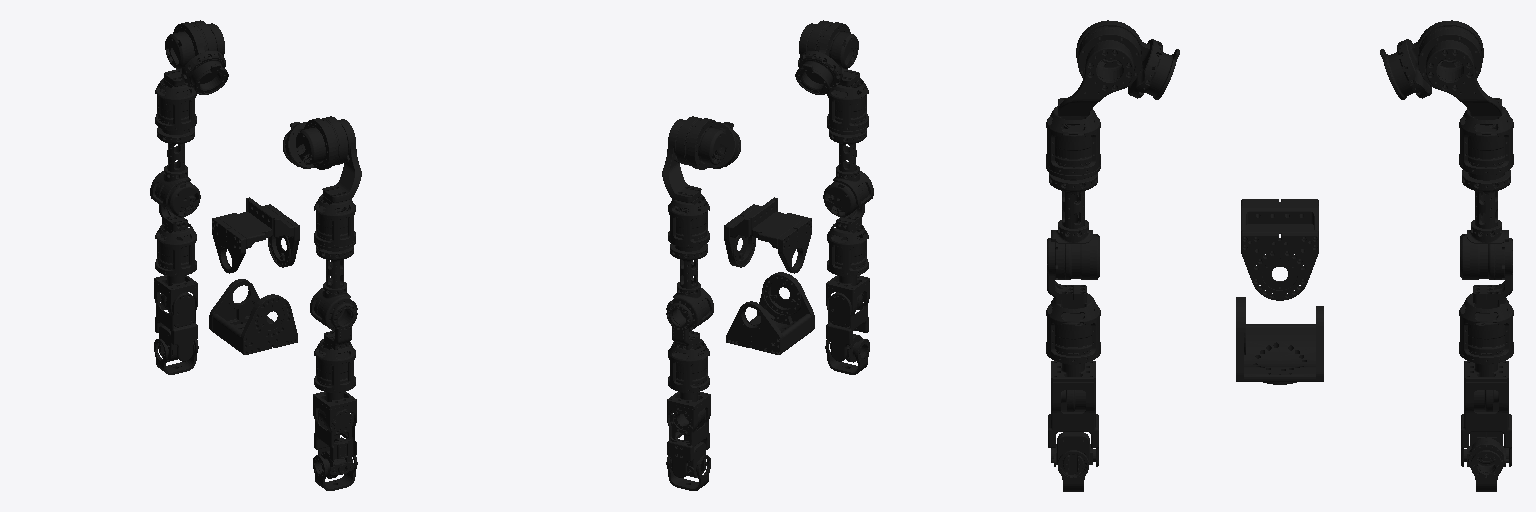
robot.urdf — sonnyV4_new_new_new:
<?xml version="1.0" encoding="utf-8"?>
<robot
  name="sonnyV4_new_new_new">


  <link
    name="waistYaw">
    <inertial>
      <origin
        xyz="-0.010388 -0.001695 0.022471"
        rpy="0 0 0" />
      <mass
        value="0.378860" />
      <inertia
        ixx="0.000559"
        ixy="-0.000010"
        ixz="-0.000002"
        iyy="0.000414"
        iyz="-0.000027"
        izz="0.000713" />
    </inertial>
    <visual>
      <origin
        xyz="0 0 0"
        rpy="0 0 0" />
      <geometry>
        <mesh
          filename="../meshes/y3.STL" />
      </geometry>
      <material
        name="">
        <color
          rgba="0.15 0.15 0.15 1" />
        <!-- <color
          rgba="1 1 1 1" /> -->
      </material>
    </visual>

      <collision>
      <origin
        xyz="0.0 0.0 0.0"
        rpy="0 0 0" />
      <geometry>
        <!-- <cylinder length="0.16" radius="0.07"/> -->
        <mesh
          filename="../meshes/y3.STL" />
      </geometry>
      <!-- <origin
        xyz="0 0 0"
        rpy="0 0 0" />
      <geometry>
        <mesh
          filename="../meshes/you3.STL" />
      </geometry> -->
    </collision>

  </link>

  <link
    name="waistPitch">
    <inertial>
      <origin
        xyz="0.001679 0.037972 0.042537"
        rpy="0 0 0" />
      <mass
        value="2.453693" />
      <inertia
        ixx="0.006530"
        ixy="0.000007"
        ixz="0.000170"
        iyy="0.006528"
        iyz="0.000177"
        izz="0.002075" />
    </inertial>
    <visual>
      <origin
        xyz="0 0 0"
        rpy="0 0 0" />
      <geometry>
        <mesh
          filename="../meshes/y2.STL" />
      </geometry>
      <material
        name="">
        <color
          rgba="0.15 0.15 0.15 1" />
        <!-- <color
          rgba="0.686274509803922 0.686274509803922 0.686274509803922 1" /> -->
      </material>
    </visual>
    <collision>
      <origin
        xyz="0 0 0"
        rpy="0 0 0" />
      <geometry>
        <mesh
          filename="../meshes/y2.STL" />
      </geometry>
    </collision>
  </link>
  <joint
    name="waistPitch"
    type="fixed">
    <origin
      xyz="0 -0.03965 0.055"
      rpy="0 0 0" />
    <parent
      link="waistYaw" />
    <child
      link="waistPitch" />
    <axis
      xyz="0 1 0" />
    <limit effort="82.5" lower="-1.57" upper="1.57" velocity="8.0"/>
  </joint>
  <link
    name="waistRoll">
    <inertial>
      <origin
        xyz="-0.035884 0.0 0.032200"
        rpy="0 0 0" />
      <mass
        value="0.317200" />
      <inertia
        ixx="0.000344"
        ixy="0.0"
        ixz="-0.000015"
        iyy="0.000517"
        iyz="0.0"
        izz="0.000605" />
    </inertial>
    <visual>
      <origin
        xyz="0 0 0"
        rpy="0 0 0" />
      <geometry>
        <mesh
          filename="../meshes/y1.STL" />
      </geometry>
      <material
        name="">
        <color
          rgba="0.15 0.15 0.15 1" />
        <!-- <color
          rgba="0.752941176470588 0.752941176470588 0.752941176470588 1" /> -->
      </material>
    </visual>
    <collision>
      <origin
        xyz="0 0 0"
        rpy="0 0 0" />
      <geometry>
        <mesh
          filename="../meshes/y1.STL" />
      </geometry>
    </collision>
  </link>
  <joint
    name="waistRoll"
    type="fixed">
    <origin
      xyz="0.03965 0.03965 0.085"
      rpy="0 0 0" />
    <parent
      link="waistPitch" />
    <child
      link="waistRoll" />
    <axis
      xyz="1 0 0" />
    <limit effort="82.5" lower="-1.57" upper="1.57" velocity="8.0"/>
  </joint>
  <link
    name="torso">
    <inertial>
      <origin
        xyz="-0.012990 0.012559 -0.016876"
        rpy="0 0 0" />
      <mass
        value="5.293464" />
      <inertia
        ixx="0.031058"
        ixy="0.000699"
        ixz="0.002136"
        iyy="0.023216"
        iyz="0.001421"
        izz="0.016461" />
    </inertial>
    <visual>
      <origin
        xyz="0 0 0"
        rpy="0 0 0" />
      <geometry>
        <mesh
          filename="../meshes/b1.STL" />
      </geometry>
      <material
        name="">
        <color
          rgba="0.15 0.15 0.15 1" />
        <!-- <color
          rgba="0.752941176470588 0.752941176470588 0.752941176470588 1" /> -->
      </material>
    </visual>
    <collision>
      <origin
        xyz="0 0 0.0"
        rpy="0 0 0" />
      <geometry>
        <!-- <sphere radius="0.1"/> -->
        <mesh
          filename="../meshes/b1.STL" />
      </geometry>
    </collision>

  </link>
  <joint
    name="torso"
    type="fixed">
    <origin
      xyz="-0.03965 0 0.19760320787506"
      rpy="0 0 0" />
    <parent
      link="waistRoll" />
    <child
      link="torso" />
    <axis
      xyz="1 0 0" />
  </joint>
  <link
    name="shoulderPitchLeft">
    <inertial>
      <origin
        xyz="0.00543959 0.05818666 -0.00001075"
        rpy="0 0 0" />
      <mass
        value="0.77170250" />
      <inertia
        ixx="0.00068500"
        ixy="0.00004059"
        ixz="0.00000064"
        iyy="0.00041017"
        iyz="-0.00000177"
        izz="0.00064509" />
    </inertial>
    <visual>
      <origin
        xyz="0 0 0"
        rpy="0 0 0" />
      <geometry>
        <mesh
          filename="../meshes/zuo1.STL" />
      </geometry>
      <material
        name="">
        <color
          rgba="0.15 0.15 0.15 1" />
        <!-- <color
          rgba="0.752941176470588 0.752941176470588 0.752941176470588 1" /> -->
      </material>
    </visual>
    <collision>
      <origin
        xyz="0 0 0"
        rpy="0 0 0" />
      <geometry>
        <mesh
          filename="../meshes/zuo1.STL" />
      </geometry>
    </collision>
  </link>
  <joint
    name="shoulderPitch_Left"
    type="revolute">
    <origin
      xyz="0 0.126623540681031 0.0196556705521279"
      rpy="0.436332320793253 0 0" />
    <parent
      link="torso" />
    <child
      link="shoulderPitchLeft" />
    <axis
      xyz="0 1 0" />
    <limit effort="18.0" lower="-2.618" upper="1.047" velocity="8.0"/>
  </joint>
  <link
    name="shoulderRollLeft">
    <inertial>
      <origin
        xyz="-0.02621271 0.09487288 0.03613994"
        rpy="0 0 0" />
      <mass
        value="0.50766554" />
      <inertia
        ixx="0.00092986"
        ixy="-0.00021876"
        ixz="-0.00006163"
        iyy="0.00032675"
        iyz="0.00017328"
        izz="0.00092647" />
    </inertial>
    <visual>
      <origin
        xyz="0 0 0"
        rpy="0 0 0" />
      <geometry>
        <mesh
          filename="../meshes/zuo2.STL" />
      </geometry>
      <material
        name="">
        <color
          rgba="0.15 0.15 0.15 1" />
        <!-- <color
          rgba="0.752941176470588 0.752941176470588 0.752941176470588 1" /> -->
      </material>
    </visual>
    <!-- <visual>
      <origin
        xyz="-0.025 0 0"
        rpy="0 0 0" />
      <geometry>
        <sphere radius="0.04"/>
      </geometry>
      <material
        name="">
        <color
          rgba="0.236 0.225 0.225 1" />
      </material>
    </visual> -->
    <collision>

      <origin
        xyz="0 0 0"
        rpy="0 0 0" />
      <geometry>
        <mesh
          filename="../meshes/zuo2.STL" />
      </geometry>
    </collision>
  </link>
  <joint
    name="shoulderRoll_Left"
    type="revolute">
    <origin
      xyz="0.031999983030471 0.0670000081048653 0"
      rpy="-2.00712863979338 0 0" />
    <parent
      link="shoulderPitchLeft" />
    <child
      link="shoulderRollLeft" />
    <axis
      xyz="1 0 0" />
    <limit effort="18.0" lower="0.0" upper="3.1415926" velocity="8.0"/>  
  </joint>
  <link
    name="shoulderYawLeft">
    <inertial>
      <origin
        xyz="-0.00058180 0.08646464 0.00051497"
        rpy="0 0 0" />
      <mass
        value="0.46974876" />
      <inertia
        ixx="0.00082642"
        ixy="-0.00000384"
        ixz="-0.00000177"
        iyy="0.00016793"
        iyz="0.00000332"
        izz="0.00081863" />
    </inertial>
    <visual>
      <origin
        xyz="0 0 0"
        rpy="0 0 0" />
      <geometry>
        <!-- <cylinder length="0.07" radius="0.015"/> -->
        <mesh
          filename="../meshes/zuo3.STL" />
      </geometry>
      <material
        name="">
        <color
          rgba="0.15 0.15 0.15 1" />
        <!-- <color
          rgba="0.752941176470588 0.752941176470588 0.752941176470588 1" /> -->
      </material>
    </visual>
    <collision>

      <origin
        xyz="0 0 0"
        rpy="0 0 0" />
      <geometry>
      
        <mesh
          filename="../meshes/zuo3.STL" />
      </geometry>
    </collision>
  </link>
  <joint
    name="shoulderYaw_Left"
    type="revolute">
    <origin
      xyz="-0.0320000087093567 0.13653033030089 0.0399999930319231"
      rpy="0 0 0" />
    <parent
      link="shoulderRollLeft" />
    <child
      link="shoulderYawLeft" />
    <axis
      xyz="0 1 0" />
    <limit effort="18.0" lower="-1.57" upper="1.57" velocity="8.0"/>
  </joint>
  <link
    name="elbowLeft">
    <inertial>
      <origin
        xyz="-0.00011118 0.08753807 -0.02085588"
        rpy="0 0 0" />
      <mass
        value="0.44695620" />
      <inertia
        ixx="0.00043623"
        ixy="-0.00000040"
        ixz="-0.00000006"
        iyy="0.00018512"
        iyz="-0.00005009"
        izz="0.00041190" />
    </inertial>
    <visual>
      <origin
        xyz="0 0 0"
        rpy="0 0 0" />
      <geometry>
        <mesh
          filename="../meshes/zuo4.STL" />
      </geometry>
      <material
        name="">
        <color
          rgba="0.15 0.15 0.15 1" />
        <!-- <color
          rgba="0.752941176470588 0.752941176470588 0.752941176470588 1" /> -->
      </material>
    </visual>
    <collision>
      <origin
        xyz="0 0 0"
        rpy="0 0 0" />
      <geometry>
      
        <mesh
          filename="../meshes/zuo4.STL" />
      </geometry>

    </collision>
  </link>
  <joint
    name="elbow_Left"
    type="revolute">
    <origin
      xyz="0 0.109999999996649 0.0225303303019319"
      rpy="0 0 0" />
    <parent
      link="shoulderYawLeft" />
    <child
      link="elbowLeft" />
    <axis
      xyz="0 0 1" />
    <limit effort="18.0" lower="-2.8" upper="0.0" velocity="8.0"/>
  </joint>
  <link
    name="wristYawLeft">
    <inertial>
      <origin
        xyz="0.00001044 0.05580546 0.00019754"
        rpy="0 0 0" />
      <mass
        value="0.33817414" />
      <inertia
        ixx="0.00036885"
        ixy="0.00000004"
        ixz="0.00000003"
        iyy="0.00014206"
        iyz="0.00000171"
        izz="0.00032478" />
    </inertial>
    <visual>
      <origin
        xyz="0 0 0"
        rpy="0 0 0" />
      <geometry>
        <mesh
          filename="../meshes/zuo5.STL" />
      </geometry>
      <material
        name="">
        <color
          rgba="0.15 0.15 0.15 1" />
        <!-- <color
          rgba="0.752941176470588 0.752941176470588 0.752941176470588 1" /> -->
      </material>
    </visual>
    <collision>
      <origin
        xyz="0 0 0"
        rpy="0 0 0" />
      <geometry>
        <!-- <cylinder length="0.1" radius="0.03"/> -->
        <mesh
          filename="../meshes/zuo5.STL" />
      </geometry>
      <!-- <origin
        xyz="0 0 0"
        rpy="0 0 0" />
      <geometry>
      
        <mesh
          filename="../meshes/zuo3.STL" />
      </geometry> -->
    </collision>
  </link>
  <joint
    name="wristYaw_Left"
    type="revolute">
    <origin
      xyz="0 0.119029693673247 -0.0225001718767759"
      rpy="1.22191583977987E-05 0 6.88165313456609E-05" />
    <parent
      link="elbowLeft" />
    <child
      link="wristYawLeft" />
    <axis
      xyz="0 1 0" />
    <limit effort="18.0" lower="-3.14" upper="3.14" velocity="8.0"/>
  </joint>
  <link
    name="wristPitchLeft">
    <inertial>
      <origin
        xyz="0.00031583 -0.00130083 -0.02117234"
        rpy="0 0 0" />
      <mass
        value="0.17160000" />
      <inertia
        ixx="0.00003941"
        ixy="0.00000318"
        ixz="-0.00000006"
        iyy="0.00005228"
        iyz="0.00000014"
        izz="0.00005147" />
    </inertial>
    <visual>
      <origin
        xyz="0 0 0"
        rpy="0 0 0" />
      <geometry>
        <mesh
          filename="../meshes/zuo6.STL" />
      </geometry>
      <material
        name="">
        <color
          rgba="0.15 0.15 0.15 1" />
        <!-- <color
          rgba="0.752941176470588 0.752941176470588 0.752941176470588 1" /> -->
      </material>
    </visual>
    <collision>
      <origin
        xyz="0 0 0"
        rpy="0 0 0" />
      <geometry>
        <mesh
          filename="../meshes/zuo6.STL" />
      </geometry>
  
    </collision>
  </link>
  <joint
    name="wristPitch_Left"
    type="revolute">
    <origin
      xyz="0 0.122500000447922 0.0214000000000155"
      rpy="0 0 -6.88165313508023E-05" />
    <parent
      link="wristYawLeft" />
    <child
      link="wristPitchLeft" />
    <axis
      xyz="0 0 1" />
    <limit effort="18.0" lower="-1.5708" upper="1.5708" velocity="8.0"/>
  </joint>

  <link
    name="wristRollLeft">
    <inertial>
      <origin
        xyz="-0.02108274 0.01897347 0.0"
        rpy="0 0 0" />
      <mass
        value="0.02868924" />
      <inertia
        ixx="0.00000964"
        ixy="-0.00000104"
        ixz="0.00000000"
        iyy="0.00001483"
        iyz="0.00000000"
        izz="0.00002026" />
    </inertial>
    <visual>
      <origin
        xyz="0 0 0"
        rpy="0 0 0" />
      <geometry>
        <mesh
          filename="../meshes/zuo7.STL" />
      </geometry>
      <material
        name="">
        <color
          rgba="0.15 0.15 0.15 1" />
        <!-- <color
          rgba="1 1 1 1" /> -->
      </material>
    </visual>
    <!-- <collision>
      <origin
        xyz="0 0.0 0"
        rpy="0 0 0" />
      <geometry>
        <mesh
          filename="../meshes/zuo7.STL" />
      </geometry>

    </collision> -->
  </link>
  <joint
    name="wristRoll_Left"
    type="revolute">
    <origin
      xyz="0.0229999999454974 0 -0.021400000000012"
      rpy="0 0 6.88165313172141E-05" />
    <parent
      link="wristPitchLeft" />
    <child
      link="wristRollLeft" />
    <axis
      xyz="1 0 0" />
    <limit effort="18.0" lower="-1.5708" upper="1.5708" velocity="8.0"/>
  </joint>

  <link
    name="shoulderPitchRight">
    <inertial>
      <origin
        xyz="0.00524050 -0.05818589 -0.00000872"
        rpy="0 0 0" />
      <mass
        value="0.77170250" />
      <inertia
        ixx="0.00067837"
        ixy="-0.00003923"
        ixz="0.00000061"
        iyy="0.00040297"
        iyz="0.00000179"
        izz="0.00063796" />
    </inertial>
    <visual>
      <origin
        xyz="0 0 0"
        rpy="0 0 0" />
      <geometry>
        <mesh
          filename="../meshes/you1.STL" />
      </geometry>
      <material
        name="">
        <color
          rgba="0.15 0.15 0.15 1" />
        <!-- <color
          rgba="0.752941176470588 0.752941176470588 0.752941176470588 1" /> -->
      </material>
    </visual>
    <collision>
      <origin
        xyz="0 0 0"
        rpy="0 0 0" />
      <geometry>
        <mesh
          filename="../meshes/you1.STL" />
      </geometry>
    </collision>
  </link>
  <joint
    name="shoulderPitch_Right"
    type="revolute">
    <origin
      xyz="0 -0.126623540935121 0.0196556700072115"
      rpy="-0.43633231299858 0 0" />
    <parent
      link="torso" />
    <child
      link="shoulderPitchRight" />
    <axis
      xyz="0 1 0" />
    <limit effort="18.0" lower="-2.618" upper="1.047" velocity="8.0"/>
  </joint>
  <link
    name="shoulderRollRight">
    <inertial>
      <origin
        xyz="-0.02621258 -0.09483971 0.03613675"
        rpy="0 0 0" />
      <mass
        value="0.50766499" />
      <inertia
        ixx="0.00092464"
        ixy="0.00021867"
        ixz="-0.00006162"
        iyy="0.00032406"
        iyz="-0.00017321"
        izz="0.00092133" />
    </inertial>
    <visual>
      <origin
        xyz="0 0 0"
        rpy="0 0 0" />
      <geometry>
        <mesh
          filename="../meshes/you2.STL" />
      </geometry>
      <material
        name="">
        <color
          rgba="0.15 0.15 0.15 1" />
        <!-- <color
          rgba="0.752941176470588 0.752941176470588 0.752941176470588 1" /> -->
      </material>
    </visual>
    <collision>

      <origin
        xyz="0 0 0"
        rpy="0 0 0" />
      <geometry>
        <mesh
          filename="../meshes/you2.STL" />
      </geometry>
    </collision>
  </link>
  <joint
    name="shoulderRoll_Right"
    type="revolute">
    <origin
      xyz="0.0319999999999985 -0.0669999999999986 0"
      rpy="2.00712863979348 0 0" />
    <parent
      link="shoulderPitchRight" />
    <child
      link="shoulderRollRight" />
    <axis
      xyz="1 0 0" />
    <limit effort="18.0" lower="-3.1415926" upper="0.0" velocity="8.0"/>  
  </joint>
  <link
    name="shoulderYawRight">
    <inertial>
      <origin
        xyz="-0.00058316 -0.08646131 0.00047906"
        rpy="0 0 0" />
      <mass
        value="0.46974981" />
      <inertia
        ixx="0.00082183"
        ixy="0.00000387"
        ixz="-0.00000176"
        iyy="0.00016345"
        iyz="-0.00000294"
        izz="0.00081588" />
    </inertial>
    <visual>
      <origin
        xyz="0 0 0"
        rpy="0 0 0" />
      <geometry>
        <mesh
          filename="../meshes/you3.STL" />
      </geometry>
      <material
        name="">
        <color
          rgba="0.15 0.15 0.15 1" />
        <!-- <color
          rgba="0.752941176470588 0.752941176470588 0.752941176470588 1" /> -->
      </material>
    </visual>
    <collision>

      <origin
        xyz="0 0 0"
        rpy="0 0 0" />
      <geometry>
        <mesh
          filename="../meshes/you3.STL" />
      </geometry>
    </collision>
  </link>
  <joint
    name="shoulderYaw_Right"
    type="revolute">
    <origin
      xyz="-0.0320000000002931 -0.136530330300864 0.0399999999991598"
      rpy="0 0 0" />
    <parent
      link="shoulderRollRight" />
    <child
      link="shoulderYawRight" />
    <axis
      xyz="0 1 0" />
    <limit effort="18.0" lower="-1.57" upper="1.57" velocity="8.0"/>
  </joint>
  <link
    name="elbowRight">
    <inertial>
      <origin
        xyz="-0.00010758 -0.08750034 -0.02085603"
        rpy="0 0 0" />
      <mass
        value="0.44695620" />
      <inertia
        ixx="0.00043144"
        ixy="0.00000041"
        ixz="-0.00000005"
        iyy="0.00018244"
        iyz="0.00005007"
        izz="0.00040705" />
    </inertial>
    <visual>
      <origin
        xyz="0 0 0"
        rpy="0 0 0" />
      <geometry>
        <mesh
          filename="../meshes/you4.STL" />
      </geometry>
      <material
        name="">
        <color
          rgba="0.15 0.15 0.15 1" />
        <!-- <color
          rgba="0.752941176470588 0.752941176470588 0.752941176470588 1" /> -->
      </material>
    </visual>
    <collision>
      <origin
        xyz="0 0 0"
        rpy="0 0 0" />
      <geometry>
      
        <mesh
          filename="../meshes/you4.STL" />
      </geometry>

    </collision>
  </link>
  <joint
    name="elbow_Right"
    type="revolute">
    <origin
      xyz="0 -0.109999999996644 0.0225303303019291"
      rpy="0 0 0" />
    <parent
      link="shoulderYawRight" />
    <child
      link="elbowRight" />
    <axis
      xyz="0 0 1" />
    <limit effort="18.0" lower="-0.0" upper="2.8" velocity="8.0"/>
  </joint>
  <link
    name="wristYawRight">
    <inertial>
      <origin
        xyz="-0.00000582 -0.05580865 -0.00010517"
        rpy="0 0 0" />
      <mass
        value="0.33817414" />
      <inertia
        ixx="0.00036777"
        ixy="0.00000006"
        ixz="-0.00000002"
        iyy="0.00014102"
        iyz="-0.00000257"
        izz="0.00032472" />
    </inertial>
    <visual>
      <origin
        xyz="0 0 0"
        rpy="0 0 0" />
      <geometry>
        <mesh
          filename="../meshes/you5.STL" />
      </geometry>
      <material
        name="">
        <color
          rgba="0.15 0.15 0.15 1" />
        <!-- <color
          rgba="0.752941176470588 0.752941176470588 0.752941176470588 1" /> -->
      </material>
    </visual>
    <collision>

      <origin
        xyz="0 0 0"
        rpy="0 0 0" />
      <geometry>
        <mesh
          filename="../meshes/you5.STL" />
      </geometry>
    </collision>
  </link>
  <joint
    name="wristYaw_Right"
    type="revolute">
    <origin
      xyz="0 -0.119029693672666 -0.0225001678683308"
      rpy="-1.22100046105742E-05 0 -6.83496138025266E-05" />
    <parent
      link="elbowRight" />
    <child
      link="wristYawRight" />
    <axis
      xyz="0 1 0" />
    <limit effort="18.0" lower="-3.14" upper="3.14" velocity="8.0"/>
  </joint>
  <link
    name="wristPitchRight">
    <inertial>
      <origin
        xyz="-0.00102886 0.00129153 -0.02117405"
        rpy="0 0 0" />
      <mass
        value="0.17160000" />
      <inertia
        ixx="0.00003928"
        ixy="0.00000332"
        ixz="0.00000009"
        iyy="0.00004907"
        iyz="-0.00000014"
        izz="0.00004825" />
    </inertial>
    <visual>
      <origin
        xyz="0 0 0"
        rpy="0 0 0" />
      <geometry>
        <mesh
          filename="../meshes/you6.STL" />
      </geometry>
      <material
        name="">
        <color
          rgba="0.15 0.15 0.15 1" />
        <!-- <color
          rgba="0.752941176470588 0.752941176470588 0.752941176470588 1" /> -->
      </material>
    </visual>
    <collision>
      <origin
        xyz="0 0 0"
        rpy="0 0 0" />
      <geometry>
        <mesh
          filename="../meshes/you6.STL" />
      </geometry>

    </collision>
  </link>
  <joint
    name="wristPitch_Right"
    type="revolute">
    <origin
      xyz="0 -0.12250000044792 0.0214000000000172"
      rpy="0 0 0" />
    <parent
      link="wristYawRight" />
    <child
      link="wristPitchRight" />
    <axis
      xyz="0 0 1" />
    <limit effort="18.0" lower="-1.5708" upper="1.5708" velocity="8.0"/>
  </joint>


  <link
    name="wristRollRight">
    <inertial>
      <origin
        xyz="0.02108274 -0.01897347 0.0"
        rpy="0 0 0" />
      <mass
        value="0.02868924" />
      <inertia
        ixx="0.00000964"
        ixy="-0.00000104"
        ixz="0.00000000"
        iyy="0.00001483"
        iyz="0.00000000"
        izz="0.00002026" />
    </inertial>
    <visual>
      <origin
        xyz="0 0 0"
        rpy="0 0 0" />
      <geometry>
        <mesh
          filename="../meshes/you7.STL" />
      </geometry>
      <material
        name="">
        <color
          rgba="0.15 0.15 0.15 1" />
        <!-- <color
          rgba="1 1 1 1" /> -->
      </material>
    </visual>
    <!-- <collision>
      <origin
        xyz="0.0 0.0 0"
        rpy="0 0 0" />
      <geometry>
        <mesh
          filename="../meshes/you7.STL" />
      </geometry>

    </collision> -->
  </link>
  <joint
    name="wristRoll_Right"
    type="revolute">
    <origin
      xyz="-0.023000000000045 0 -0.0213999999999737"
      rpy="0 0 0" />
    <parent
      link="wristPitchRight" />
    <child
      link="wristRollRight" />
    <axis
      xyz="1 0 0" />
    <limit effort="18.0" lower="-1.5708" upper="1.5708" velocity="8.0"/>
  </joint>
    <link
    name="world"/>
      <joint
    name="world_fixed"
    type="fixed">
    <origin
      xyz="0 0 0.5"
      rpy="0 0 0" />
    <parent
      link="world" />
    <child
      link="waistYaw" />
  </joint>
  <mujoco>
        <compiler 
        meshdir="[local-path]/.mujoco/mujoco236/model/sonnieURDF_upbody/meshes/" 
        balanceinertia="true" 
        discardvisual="false" />
  </mujoco>


  
</robot>

--- What the picture shows (computed from the rendered views, not written in the file) ---
3 views of the same robot in one strip: view 1: azimuth 30°, elevation 25°; view 2: azimuth 150°, elevation 25°; view 3: azimuth 270°, elevation 25° (orthographic).
Robot: sonnyV4_new_new_new — 19 links, 18 joints (14 revolute, 4 fixed); root link world; default pose: all joints at 0.
Visible links, largest first — view 1: waistYaw, waistRoll, shoulderRollRight, shoulderPitchLeft, wristYawLeft, shoulderPitchRight, shoulderYawLeft, elbowRight, wristYawRight, shoulderRollLeft, elbowLeft, shoulderYawRight (+3 smaller); view 2: waistYaw, waistRoll, shoulderPitchRight, shoulderRollLeft, wristYawRight, wristYawLeft, shoulderPitchLeft, elbowLeft, shoulderYawRight, shoulderRollRight, elbowRight, shoulderYawLeft (+2 smaller); view 3: waistRoll, shoulderRollRight, shoulderRollLeft, waistYaw, elbowLeft, elbowRight, shoulderPitchLeft, shoulderPitchRight, shoulderYawLeft, shoulderYawRight, wristYawLeft, wristYawRight (+4 smaller).
Link boxes in pixels (<box>): waistYaw: <box>209,279,297,354</box>; waistRoll: <box>212,197,299,273</box>; shoulderRollRight: <box>314,119,361,250</box>; shoulderPitchLeft: <box>165,20,228,94</box>; wristYawLeft: <box>154,275,197,361</box>; shoulderPitchRight: <box>283,116,347,169</box>; shoulderYawLeft: <box>150,127,200,216</box>; elbowRight: <box>314,303,356,392</box>; wristYawRight: <box>313,392,356,461</box>; shoulderRollLeft: <box>155,23,224,130</box>; elbowLeft: <box>155,205,196,275</box>; shoulderYawRight: <box>310,246,357,331</box>; waistYaw: <box>726,272,814,354</box>; waistRoll: <box>724,197,811,273</box>; shoulderPitchRight: <box>795,20,858,94</box>; shoulderRollLeft: <box>662,119,709,247</box>; wristYawRight: <box>826,275,869,361</box>; wristYawLeft: <box>667,392,710,477</box>; shoulderPitchLeft: <box>676,116,740,169</box>; elbowLeft: <box>667,303,709,392</box>; shoulderYawRight: <box>823,129,873,216</box>; shoulderRollRight: <box>799,23,868,133</box>; elbowRight: <box>827,205,868,275</box>; shoulderYawLeft: <box>666,243,713,331</box>; waistRoll: <box>1241,199,1318,300</box>; shoulderRollRight: <box>1046,43,1133,179</box>; shoulderRollLeft: <box>1426,43,1513,174</box>; waistYaw: <box>1236,297,1323,384</box>; elbowLeft: <box>1459,238,1513,363</box>; elbowRight: <box>1046,238,1100,363</box>; shoulderPitchLeft: <box>1380,20,1483,99</box>; shoulderPitchRight: <box>1076,20,1179,99</box>; shoulderYawLeft: <box>1460,170,1510,279</box>; shoulderYawRight: <box>1049,173,1099,279</box>; wristYawLeft: <box>1461,361,1511,466</box>; wristYawRight: <box>1048,361,1098,466</box>.
Bounding box of the posed robot: 0.0973 × 0.5148 × 0.5615 m (x, y, z).
Meshes: 18 distinct files referenced, 16 mesh visuals loaded (16 binary STL); not drawn: 2 (reference not matched to a file when rendering).
